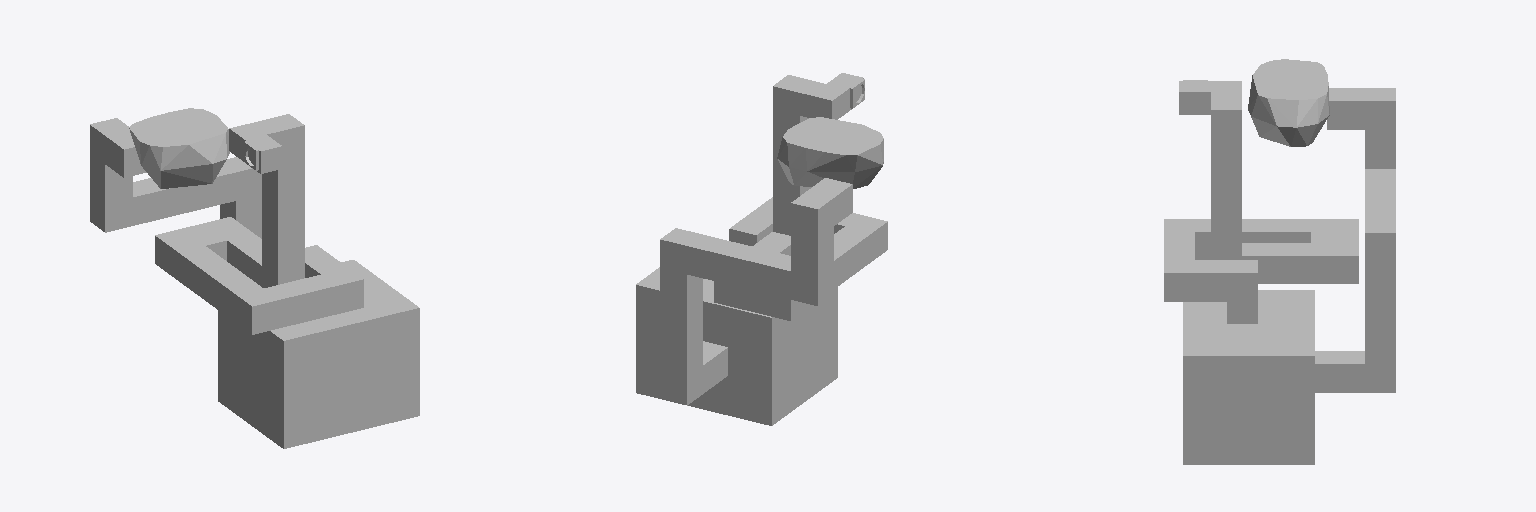
Rendered from keep1-water.obj.
3 renders of one model, left to right at view 1: azimuth 30°, elevation 25°; view 2: azimuth 150°, elevation 25°; view 3: azimuth 270°, elevation 25°, orthographic.
Parts seen in each view (by area): view 1: entity1_brush60, entity1_brush58, entity1_brush31, entity1_brush54, entity1_brush19, entity1_brush30, entity1_brush43, entity1_brush47, entity1_brush18, entity1_brush34, entity1_brush39, entity1_brush17 (+23 smaller); view 2: entity1_brush60, entity1_brush54, entity1_brush51, entity1_brush45, entity1_brush28, entity1_brush58, entity1_brush37, entity1_brush19, entity1_brush55, entity1_brush56, entity1_brush2, entity1_brush32 (+19 smaller); view 3: entity1_brush60, entity1_brush32, entity1_brush58, entity1_brush31, entity1_brush51, entity1_brush13, entity1_brush19, entity1_brush41, entity1_brush25, entity1_brush49, entity1_brush14, entity1_brush43 (+23 smaller).
Part boxes in pixels (bbox=[...]): entity1_brush60: bbox=[129, 108, 229, 170]; entity1_brush58: bbox=[262, 148, 304, 276]; entity1_brush31: bbox=[341, 292, 419, 363]; entity1_brush54: bbox=[133, 164, 235, 225]; entity1_brush19: bbox=[178, 246, 262, 322]; entity1_brush30: bbox=[262, 320, 326, 380]; entity1_brush43: bbox=[354, 376, 419, 431]; entity1_brush47: bbox=[262, 394, 326, 448]; entity1_brush18: bbox=[264, 275, 336, 327]; entity1_brush34: bbox=[354, 348, 419, 391]; entity1_brush39: bbox=[262, 365, 326, 408]; entity1_brush17: bbox=[236, 288, 278, 334]; entity1_brush60: bbox=[777, 117, 883, 171]; entity1_brush54: bbox=[687, 235, 790, 299]; entity1_brush51: bbox=[660, 268, 702, 376]; entity1_brush45: bbox=[728, 366, 799, 425]; entity1_brush28: bbox=[728, 306, 799, 357]; entity1_brush58: bbox=[773, 109, 811, 235]; entity1_brush37: bbox=[728, 338, 799, 385]; entity1_brush19: bbox=[834, 226, 871, 288]; entity1_brush55: bbox=[791, 227, 833, 277]; entity1_brush56: bbox=[791, 191, 833, 237]; entity1_brush2: bbox=[773, 75, 825, 117]; entity1_brush32: bbox=[636, 267, 713, 329]; entity1_brush60: bbox=[1248, 59, 1329, 127]; entity1_brush32: bbox=[1258, 324, 1314, 395]; entity1_brush58: bbox=[1211, 133, 1241, 255]; entity1_brush31: bbox=[1183, 324, 1226, 395]; entity1_brush51: bbox=[1365, 262, 1395, 363]; entity1_brush13: bbox=[1242, 243, 1310, 283]; entity1_brush19: bbox=[1195, 219, 1310, 259]; entity1_brush41: bbox=[1258, 425, 1314, 464]; entity1_brush25: bbox=[1227, 324, 1257, 395]; entity1_brush49: bbox=[1315, 351, 1364, 392]; entity1_brush14: bbox=[1311, 243, 1358, 283]; entity1_brush43: bbox=[1183, 425, 1226, 464].
Size of the model in its own units: 1352 by 1712 by 1184.